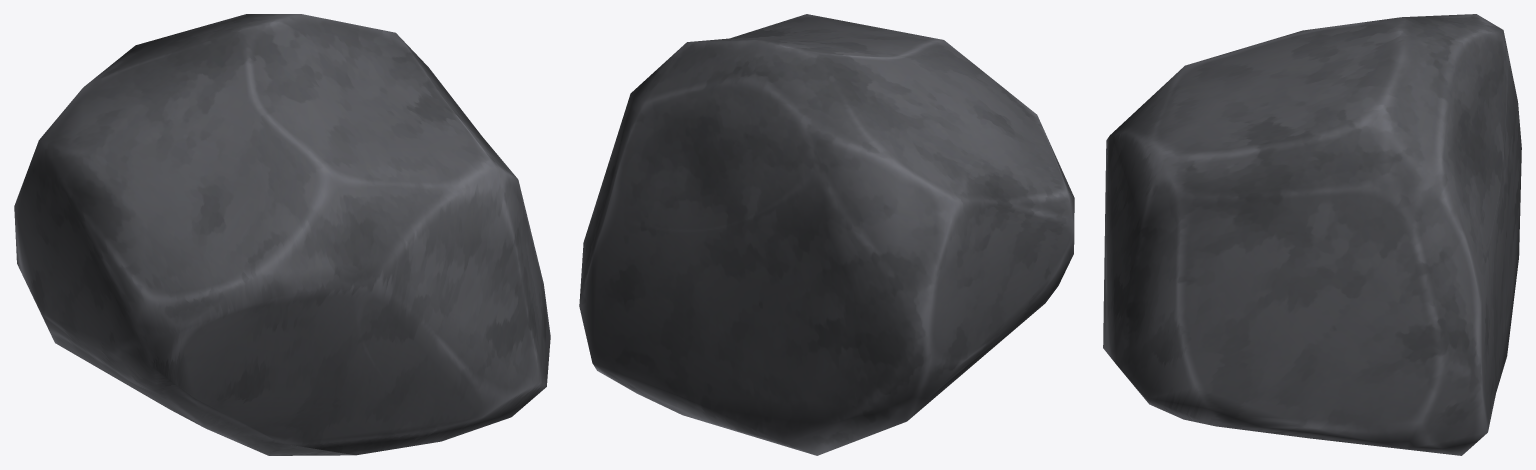
Rendered from Stone6_v1.fbx.
3 views of the same model, side by side, from view 1: azimuth 30°, elevation 25°; view 2: azimuth 150°, elevation 25°; view 3: azimuth 270°, elevation 25° (orthographic). The views are drawn at different scales.
Parts seen in each view (by area): view 1: Stone6_v1; view 2: Stone6_v1; view 3: Stone6_v1.
Part boxes in pixels (box(x1,y1,x2,y2)): Stone6_v1: box(14, 14, 550, 455); Stone6_v1: box(579, 14, 1074, 455); Stone6_v1: box(1103, 14, 1521, 455).
Bounding box in the file's own units: 200 × 171 × 178.
1 material, 1 textured.
